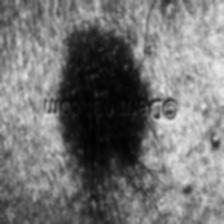Potentially Malignant Skin Tumors: (54, 26, 138, 94), (70, 127, 150, 176)
